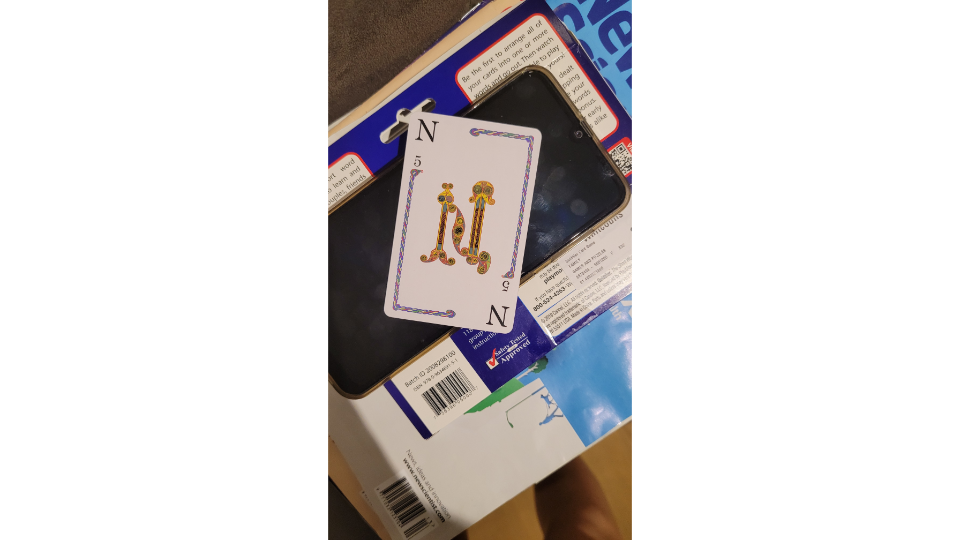N: (382, 109, 546, 337)
